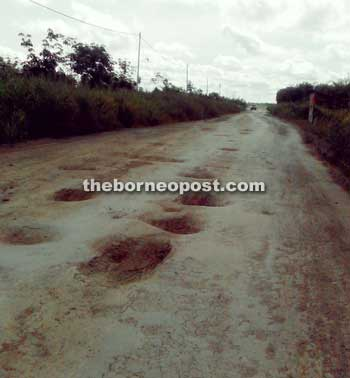pothole: (84, 235, 180, 292), (2, 221, 66, 249), (144, 215, 209, 237), (172, 192, 234, 208), (50, 186, 98, 205), (126, 154, 189, 165), (57, 162, 105, 173), (178, 172, 218, 181), (238, 126, 254, 137), (221, 146, 237, 152)
